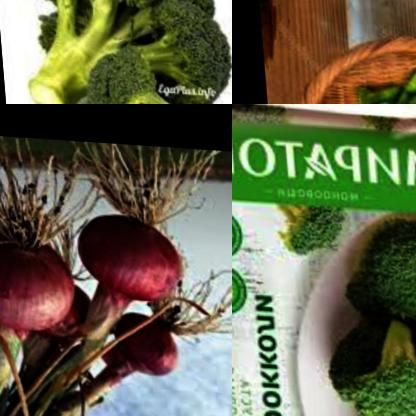beans: (311, 62, 416, 104)
broccoli: (5, 0, 232, 104), (322, 204, 416, 304), (347, 305, 416, 416), (81, 42, 201, 104), (267, 186, 354, 264)
onion: (76, 204, 196, 305), (87, 296, 194, 392), (0, 220, 86, 339)
